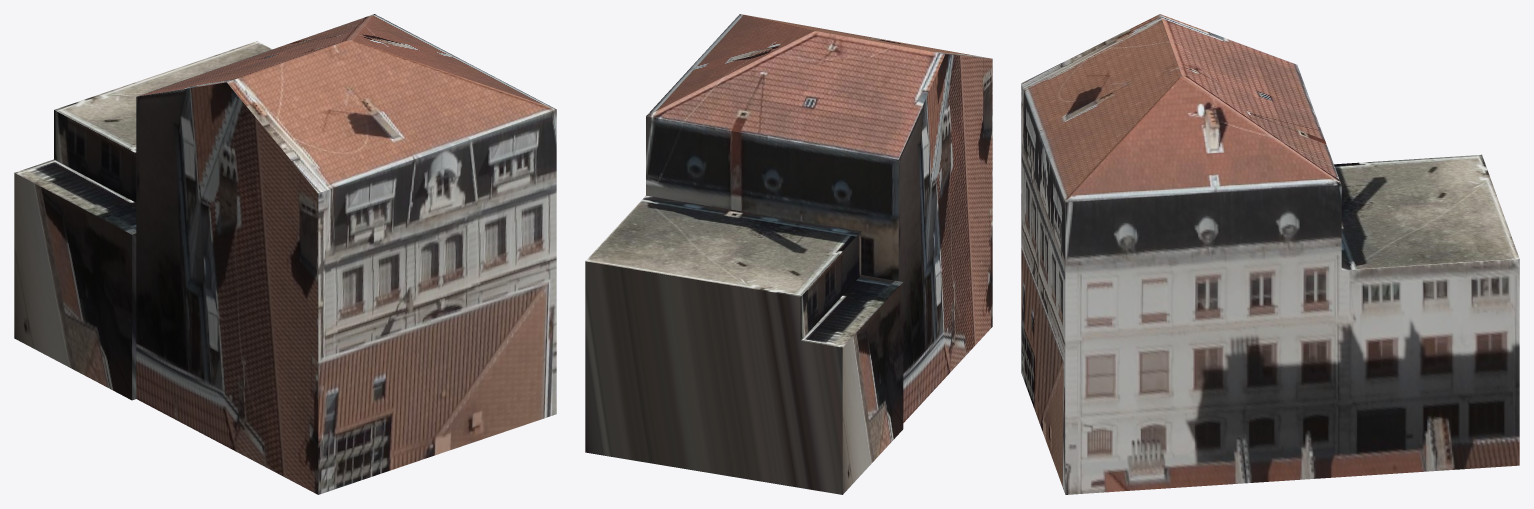
The picture shows the model from 3 angles, left to right: view 1: azimuth 30°, elevation 25°; view 2: azimuth 150°, elevation 25°; view 3: azimuth 270°, elevation 25°; orthographic projection. The views are drawn at different scales.
Parts seen in each view (by area): view 1: Z_UP; view 2: Z_UP; view 3: Z_UP.
Boxes of the visible parts, x1,y1,x2,y2 form: Z_UP: (14,14,556,494); Z_UP: (585,14,992,494); Z_UP: (1021,14,1519,494).
Size of the model in its own units: 18.28 by 19.42 by 25.
2 materials, 1 textured.
